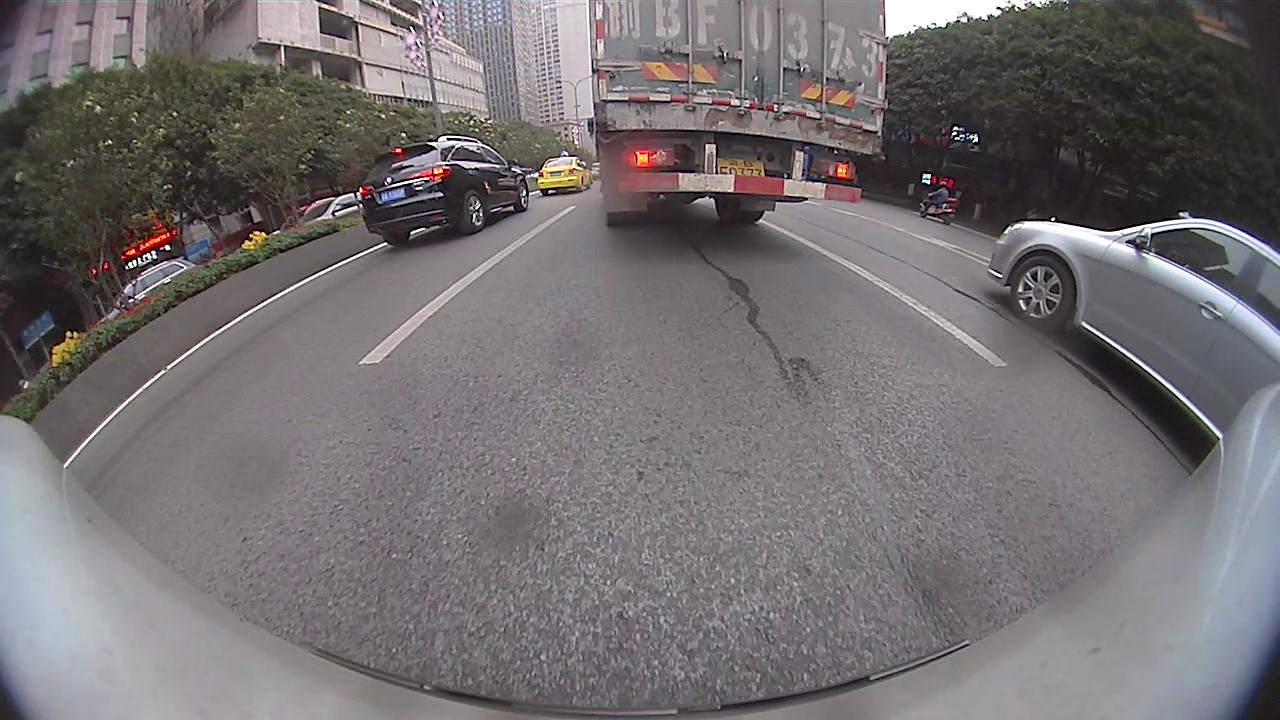car: (984, 214, 1279, 441), (358, 134, 528, 248), (538, 156, 593, 195)
front: (1007, 254, 1076, 331), (512, 182, 529, 213)
rear: (456, 190, 485, 236)
rider: (918, 180, 960, 224)
truck: (581, 2, 891, 230)
